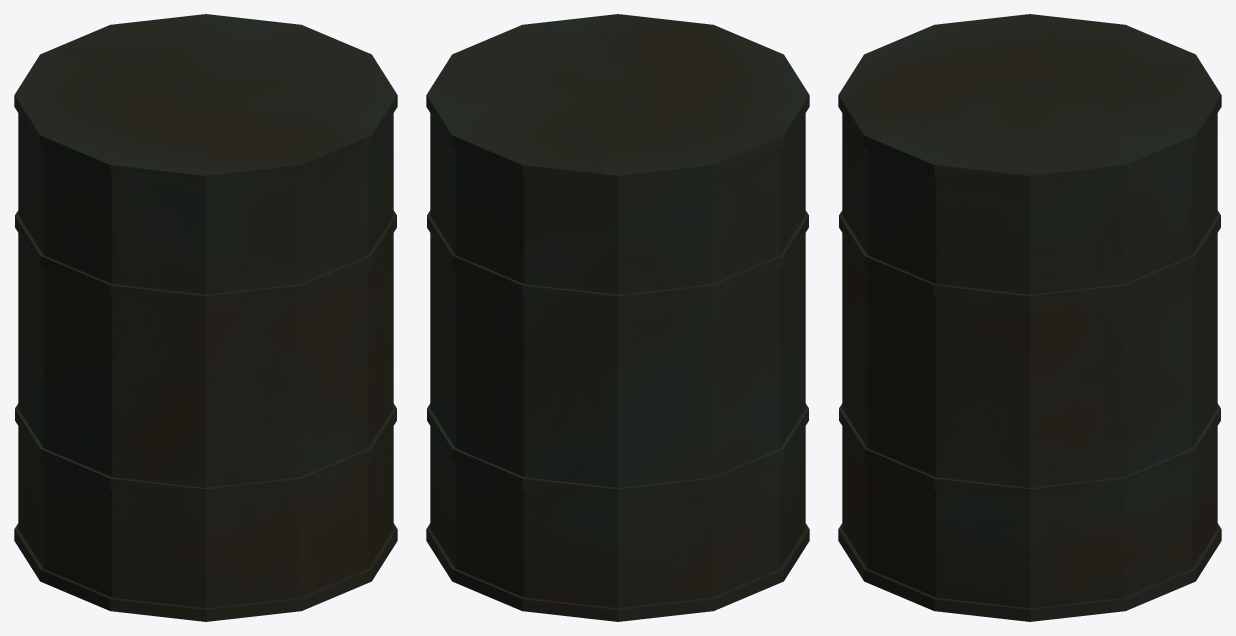
File: Latão.fbx
The picture shows the model from 3 angles, left to right: view 1: azimuth 30°, elevation 25°; view 2: azimuth 150°, elevation 25°; view 3: azimuth 270°, elevation 25°; orthographic projection.
Parts seen in each view (by area): view 1: Latão; view 2: Latão; view 3: Latão.
Boxes of the visible parts, x1,y1,x2,y2 form: Latão: [14, 14, 397, 621]; Latão: [426, 14, 809, 621]; Latão: [838, 14, 1221, 621].
Bounding box in the file's own units: 76.21 × 97.93 × 76.21.
